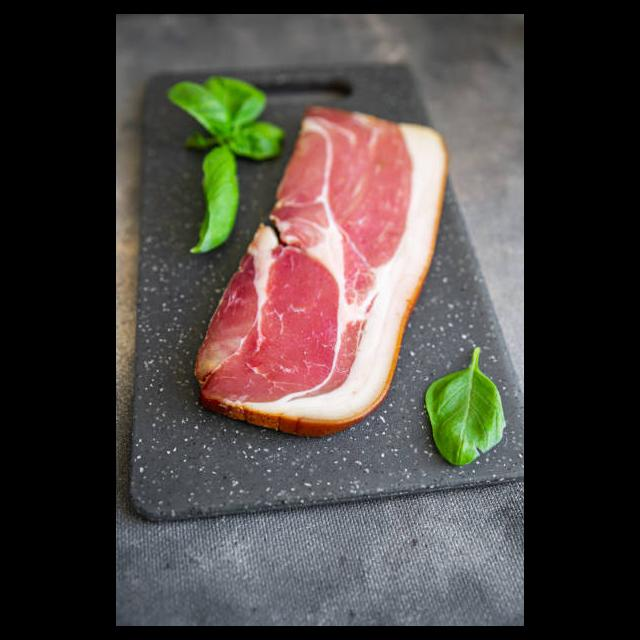pork: (205, 250, 402, 434), (285, 99, 450, 268)
